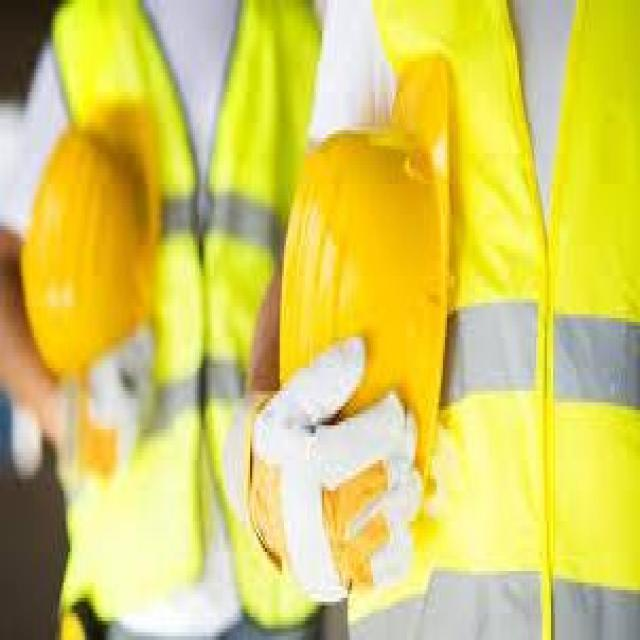construction-vest: (351, 0, 640, 612), (53, 3, 325, 629)
helmet: (278, 52, 456, 581), (33, 92, 161, 474)
